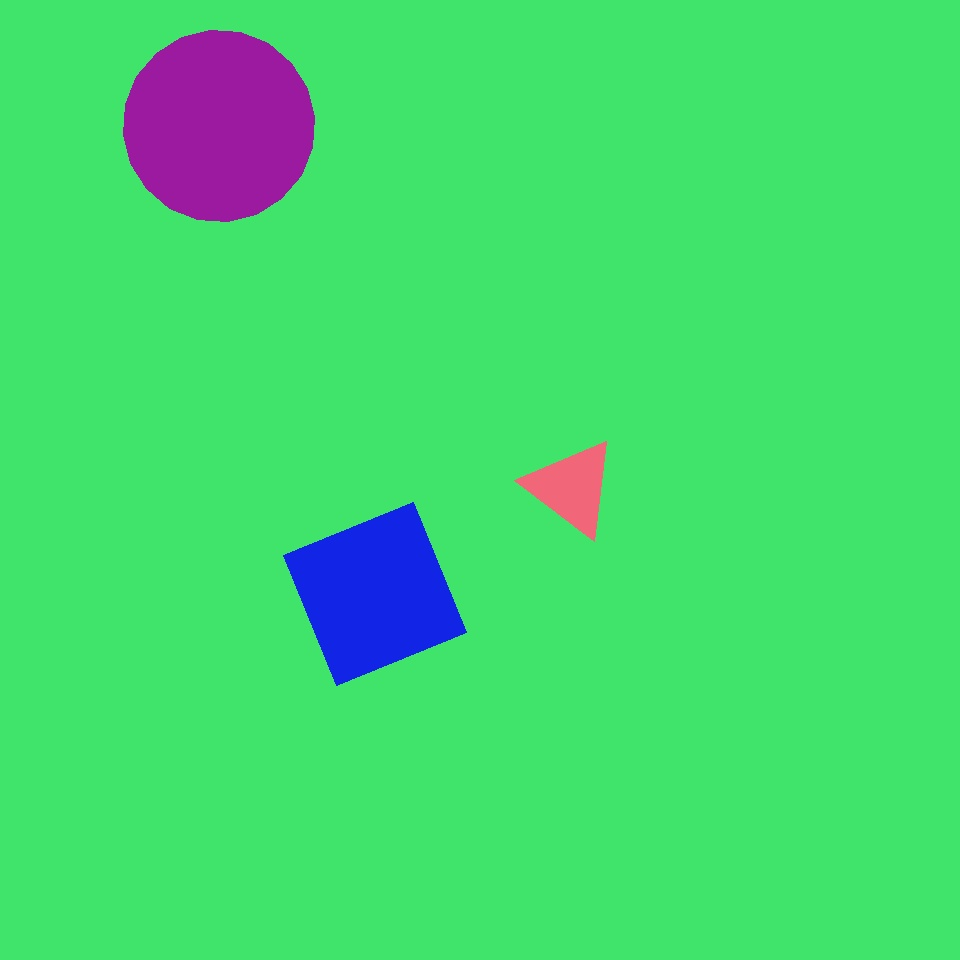circle: (486, 636, 758, 934), (630, 477, 745, 579), (526, 438, 618, 538)
square: (427, 468, 663, 704), (284, 502, 466, 686), (214, 686, 385, 857)
triangle: (124, 31, 314, 222)
